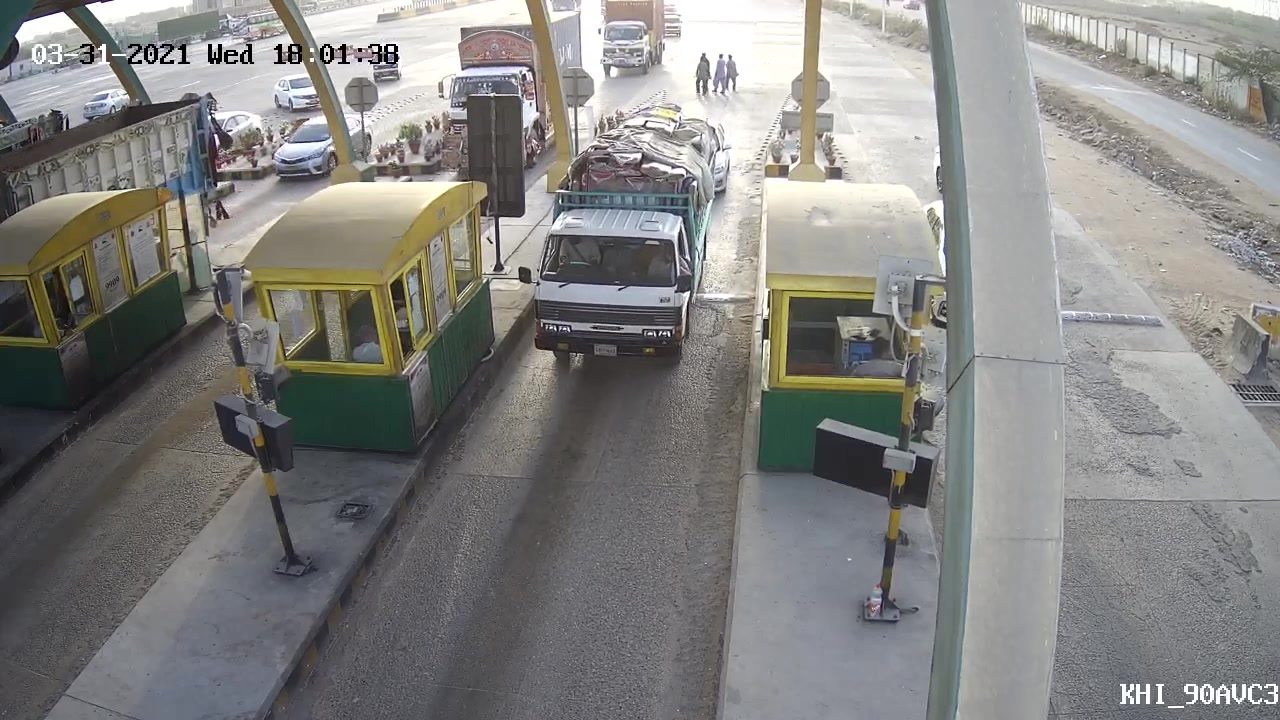F3: (511, 106, 727, 368)
